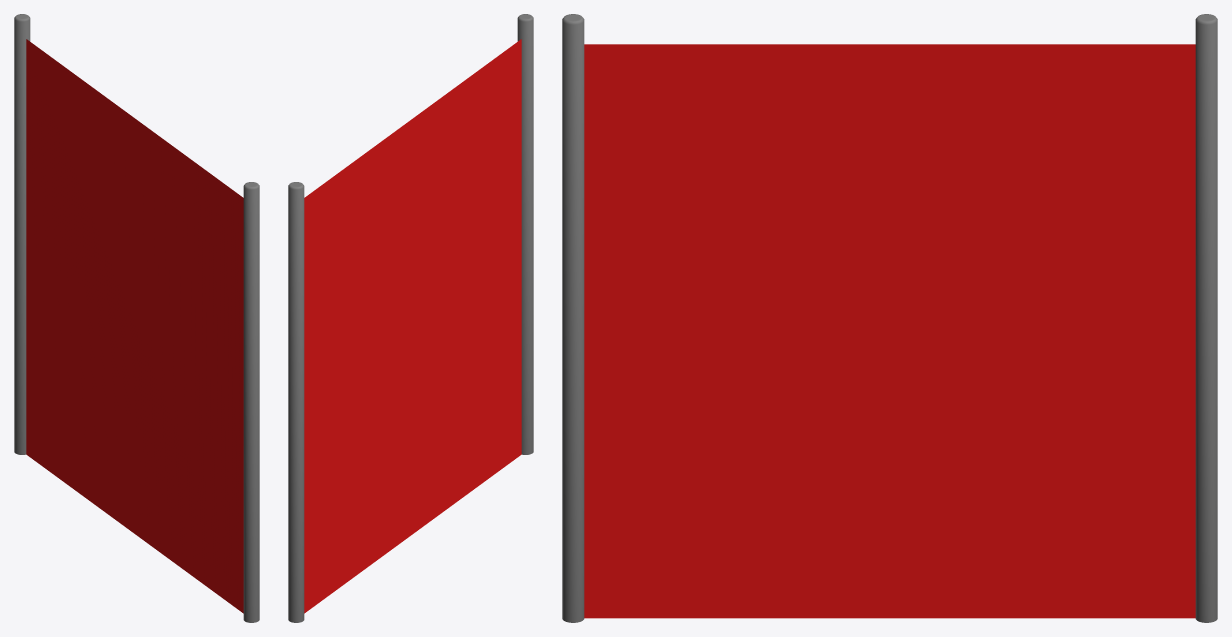
The model's file is CycleFence.fbx.
3 renders of one model, left to right at view 1: azimuth 30°, elevation 25°; view 2: azimuth 150°, elevation 25°; view 3: azimuth 270°, elevation 25°, orthographic. The views are drawn at different scales.
Parts seen in each view (by area): view 1: FenceStick, FenceCylinder001, FenceCylinder; view 2: FenceStick, FenceCylinder, FenceCylinder001; view 3: FenceStick, FenceCylinder, FenceCylinder001.
Boxes of the visible parts, x1,y1,x2,y2 form: FenceStick: (26, 39, 243, 613); FenceCylinder001: (243, 182, 259, 622); FenceCylinder: (14, 14, 30, 454); FenceStick: (304, 39, 521, 613); FenceCylinder: (288, 182, 304, 622); FenceCylinder001: (517, 14, 533, 454); FenceStick: (584, 44, 1195, 618); FenceCylinder: (1195, 14, 1217, 622); FenceCylinder001: (562, 14, 584, 622).
Bounding box in the file's own units: 70.78 × 2092 × 2070.
